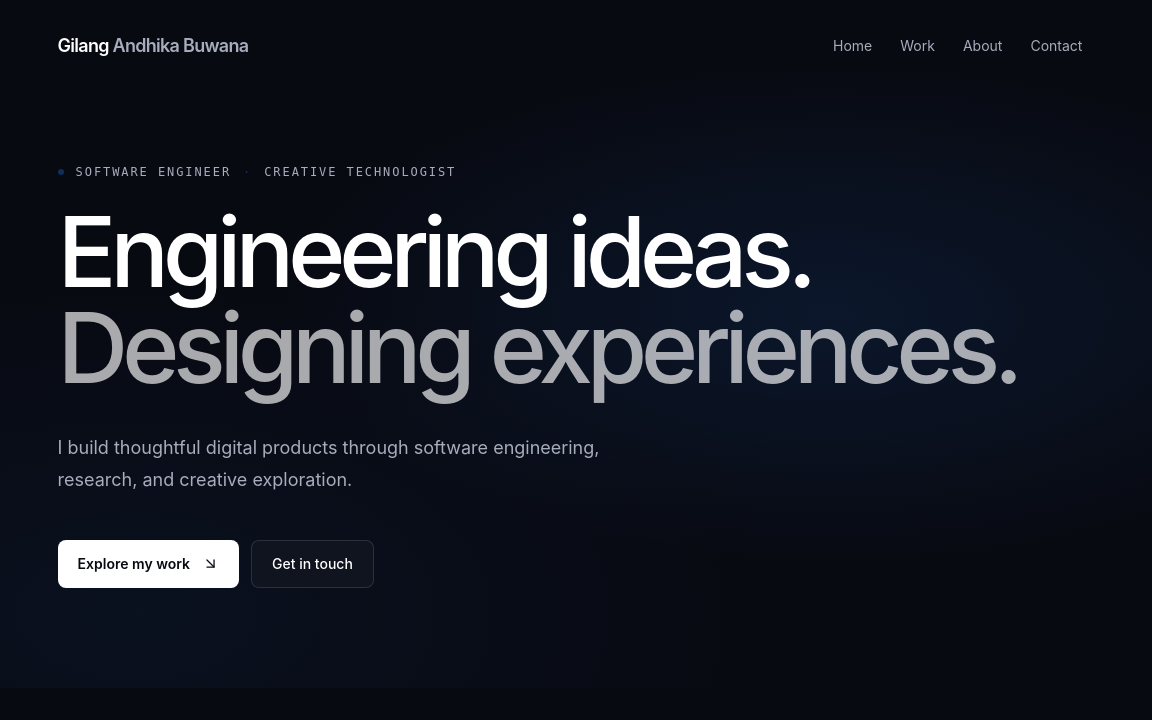
Test: App › announces the temporary contact behavior
Click the button "Get in touch": (312, 564) left=251, top=540, right=374, bottom=588
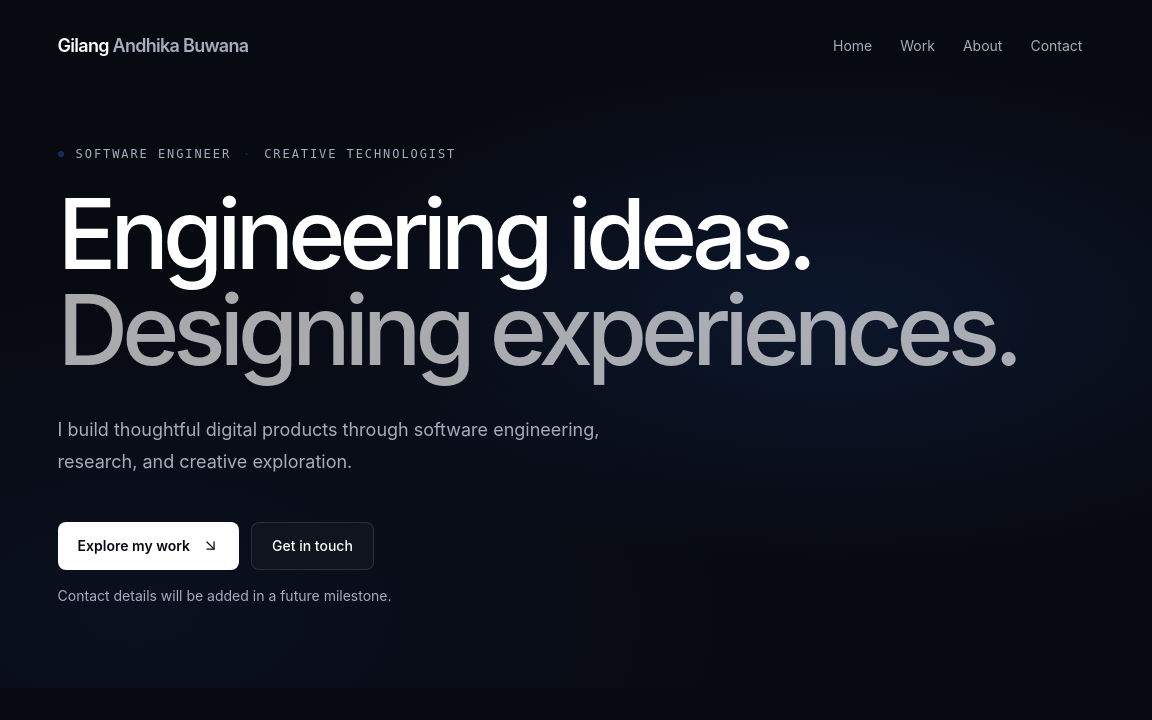
Expected: the text "Contact details will be added in a future milestone." is shown, left=58, top=587, right=392, bottom=604
